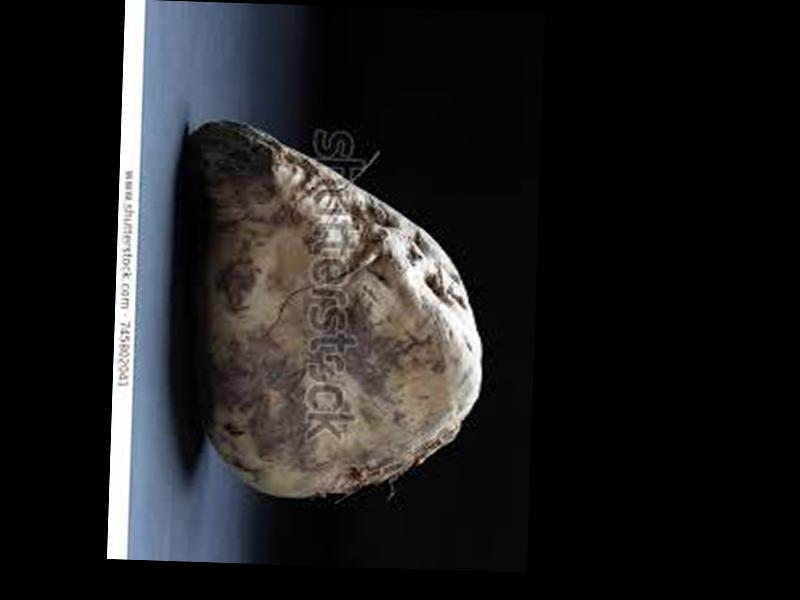Beet: (180, 125, 487, 508)
